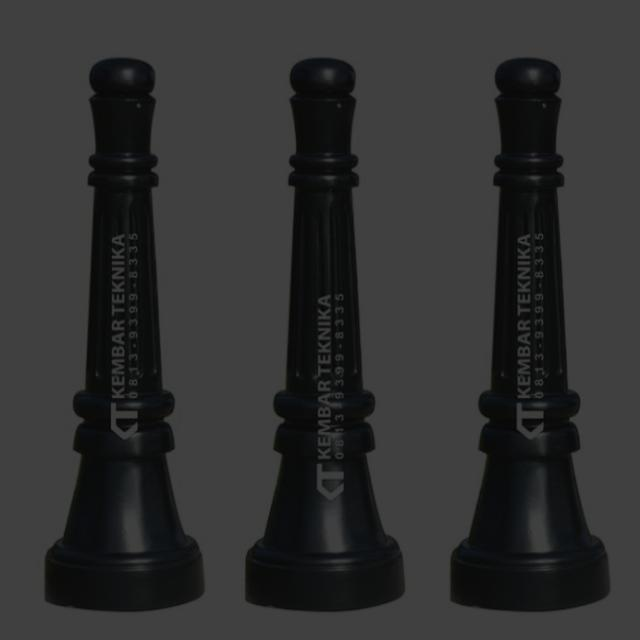obstacle: (44, 56, 204, 611), (249, 57, 406, 618), (456, 57, 608, 614)
